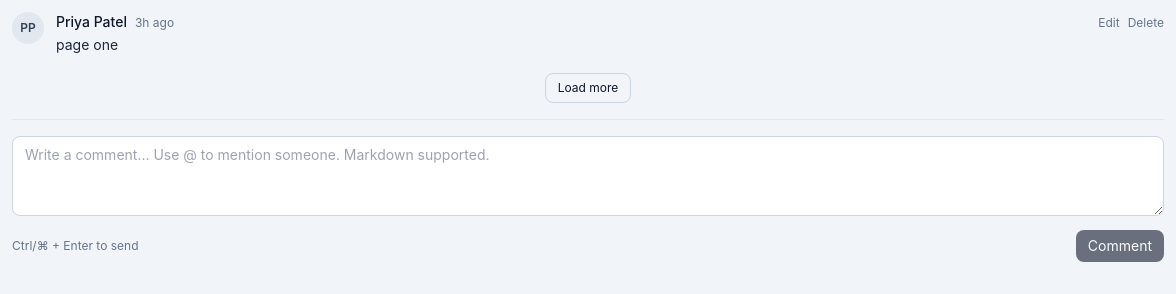
Test case: CommentsTab rendering › paginates with Load more when the backend has more pages
Expected: the text "page one" is shown, [56, 36, 118, 53]
Step 1. Click the button "Load more" → [588, 88], box [545, 73, 631, 103]
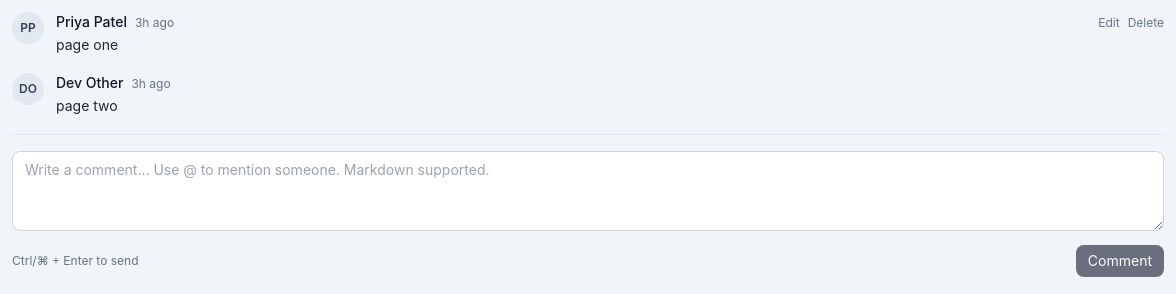
Expected: the text "page two" is shown, [56, 97, 118, 114]
Expected: the button "Load more" is gone
